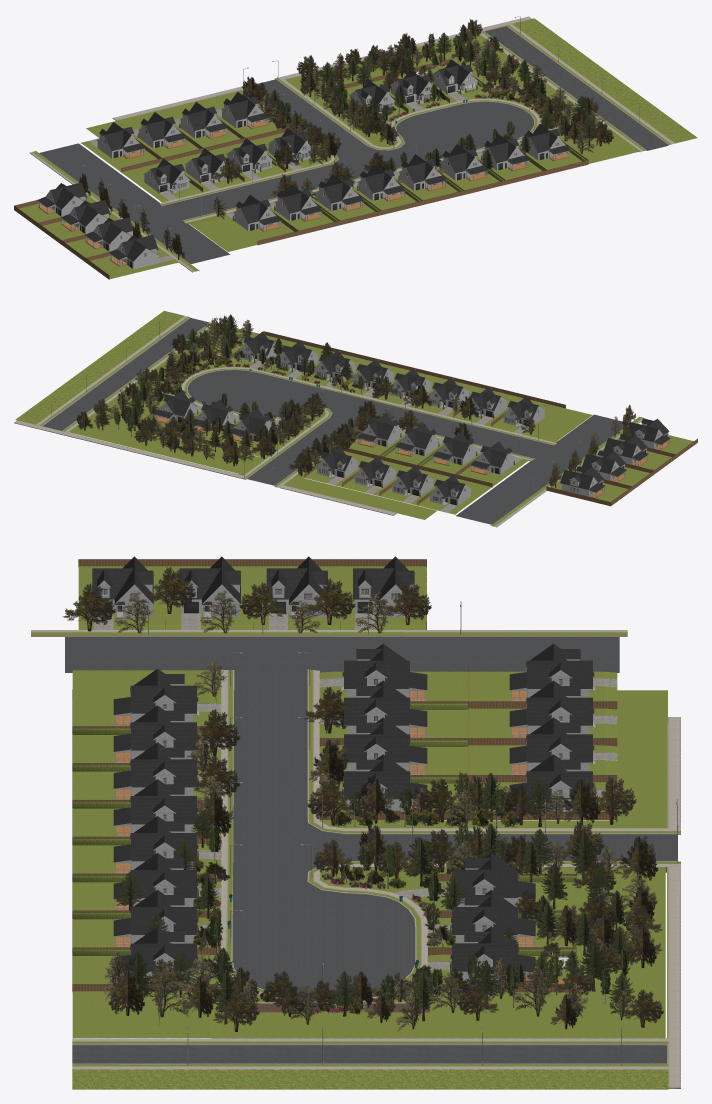
File: House.glb
The picture shows the model from 3 angles, top to bottom: view 1: azimuth 30°, elevation 25°; view 2: azimuth 150°, elevation 25°; view 3: azimuth 270°, elevation 25°; orthographic projection. The views are drawn at different scales.
Visible parts, largest first — view 1: AsphaltDamaged_001, AsphaltDamaged_005, AsphaltDamaged, grass_soil_003, AsphaltDamaged_002, AsphaltDamaged_003, grass_soil_011, Sidewalk, Sidewalk_001, grass_soil_002, House.025, House.006 (+44 smaller); view 2: AsphaltDamaged_001, grass_soil_003, AsphaltDamaged_005, AsphaltDamaged, AsphaltDamaged_002, AsphaltDamaged_003, grass_soil_002, grass_soil_011, Sidewalk, House.023, Sidewalk_004, House.003 (+44 smaller); view 3: AsphaltDamaged_001, grass_soil_003, AsphaltDamaged, AsphaltDamaged_005, AsphaltDamaged_002, grass_soil_002, Sidewalk_001, AsphaltDamaged_003, grass_soil_011, Sidewalk_005, Sidewalk, Sidewalk_004 (+69 smaller).
Boxes of the visible parts, x1=… form: AsphaltDamaged_001: x1=479, y1=18, x2=697, y2=151; AsphaltDamaged_005: x1=39, y1=143, x2=229, y2=263; AsphaltDamaged: x1=389, y1=102, x2=533, y2=162; grass_soil_003: x1=285, y1=33, x2=640, y2=169; AsphaltDamaged_002: x1=162, y1=150, x2=408, y2=220; AsphaltDamaged_003: x1=256, y1=79, x2=387, y2=162; grass_soil_011: x1=187, y1=211, x2=293, y2=251; Sidewalk: x1=278, y1=79, x2=540, y2=160; Sidewalk_001: x1=112, y1=86, x2=338, y2=206; grass_soil_002: x1=86, y1=90, x2=331, y2=161; House.025: x1=108, y1=235, x2=158, y2=269; House.006: x1=96, y1=122, x2=145, y2=159; AsphaltDamaged_001: x1=15, y1=311, x2=212, y2=432; grass_soil_003: x1=68, y1=326, x2=296, y2=474; AsphaltDamaged_005: x1=456, y1=414, x2=628, y2=524; AsphaltDamaged: x1=187, y1=370, x2=343, y2=417; AsphaltDamaged_002: x1=328, y1=394, x2=553, y2=458; AsphaltDamaged_003: x1=239, y1=409, x2=358, y2=485; grass_soil_002: x1=284, y1=426, x2=436, y2=519; grass_soil_011: x1=491, y1=400, x2=592, y2=442; Sidewalk: x1=181, y1=367, x2=346, y2=476; House.023: x1=560, y1=466, x2=605, y2=498; Sidewalk_004: x1=14, y1=420, x2=248, y2=479; House.003: x1=395, y1=423, x2=438, y2=456; AsphaltDamaged_001: x1=72, y1=1038, x2=668, y2=1089; grass_soil_003: x1=72, y1=867, x2=665, y2=1038; AsphaltDamaged: x1=232, y1=872, x2=415, y2=998; AsphaltDamaged_005: x1=65, y1=637, x2=619, y2=672; AsphaltDamaged_002: x1=233, y1=670, x2=307, y2=874; grass_soil_002: x1=320, y1=690, x2=667, y2=828; Sidewalk_001: x1=307, y1=669, x2=680, y2=834; AsphaltDamaged_003: x1=308, y1=824, x2=677, y2=872; grass_soil_011: x1=72, y1=670, x2=221, y2=726; Sidewalk_005: x1=31, y1=630, x2=627, y2=636; Sidewalk: x1=221, y1=861, x2=667, y2=1004; Sidewalk_004: x1=667, y1=861, x2=680, y2=1088.
Bounding box in the file's own units: 290 × 18.87 × 153.
145 materials, 136 textured.
